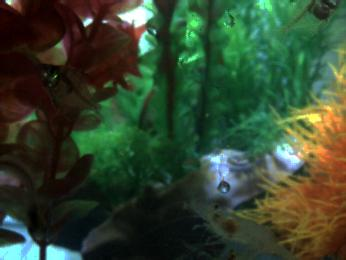X-ray fish: (37, 63, 114, 128), (270, 1, 343, 51)
glassfish: (1, 153, 60, 247)
siberian prawn: (182, 199, 297, 260)
